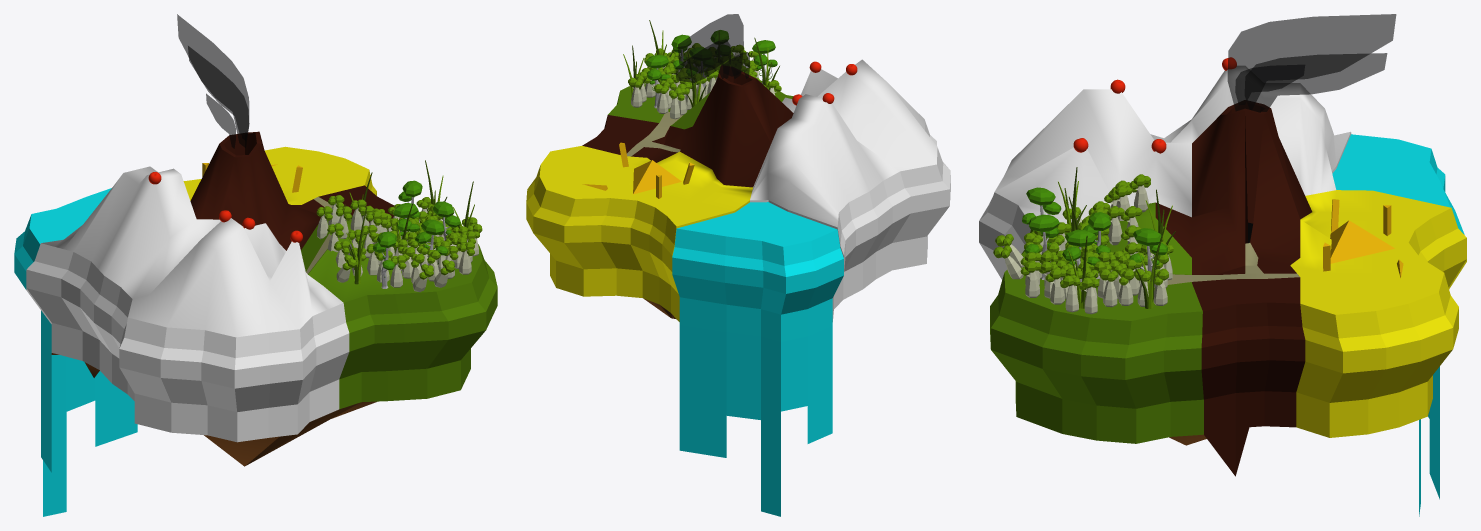
File: Island.fbx
3 renders of one model, left to right at view 1: azimuth 30°, elevation 25°; view 2: azimuth 150°, elevation 25°; view 3: azimuth 270°, elevation 25°, orthographic. The views are drawn at different scales.
Visible parts, largest first — view 1: pasted__polySurface8; view 2: pasted__polySurface8; view 3: pasted__polySurface8.
Part boxes in pixels (x1,y1,x2,y2): pasted__polySurface8: [14, 14, 497, 516]; pasted__polySurface8: [526, 14, 950, 516]; pasted__polySurface8: [979, 14, 1466, 516].
Size of the model in its own units: 66.08 by 82.78 by 65.29.
